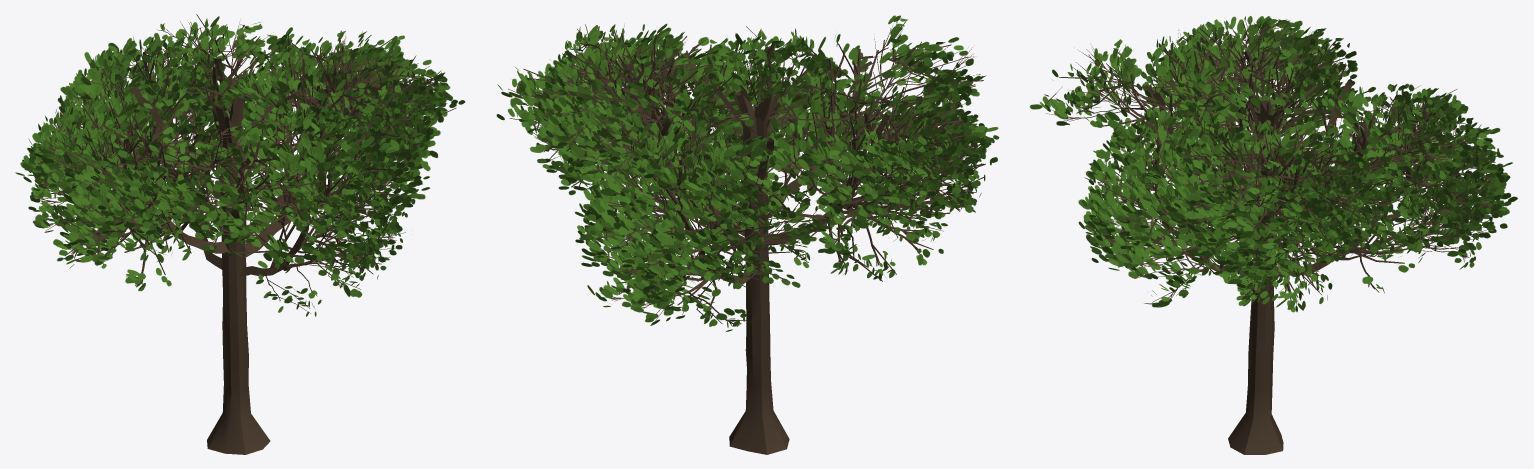
3 renders of one model, left to right at view 1: azimuth 30°, elevation 25°; view 2: azimuth 150°, elevation 25°; view 3: azimuth 270°, elevation 25°, orthographic. The views are drawn at different scales.
Visible parts, largest first — view 1: oak 01.001_trunk_Mat.001_0.147; view 2: oak 01.001_trunk_Mat.001_0.147; view 3: oak 01.001_trunk_Mat.001_0.147.
Part boxes in pixels (x1,y1,x2,y2): oak 01.001_trunk_Mat.001_0.147: (15,14,465,454); oak 01.001_trunk_Mat.001_0.147: (496,15,999,454); oak 01.001_trunk_Mat.001_0.147: (1029,16,1517,454).
Size of the model in its own units: 6.66 by 5.3 by 6.66.
Materials: 2 (1 with a texture image).
